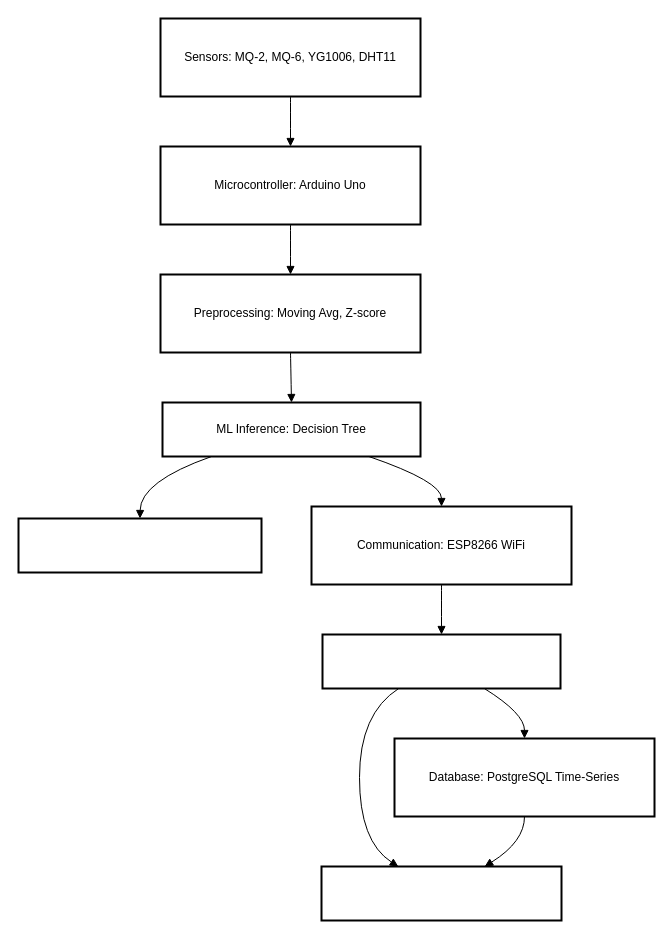
Image size: 672x938. Some labels were removed from this diagram. The shapes that lost their labels are listed below. From the top down, each one's centre as x and y in pixels, then its label:
point 139,545: Local Alert: Buzzer & LED
point 441,661: Backend API: Data Ingest
point 441,893: Dashboard: React Web UI
